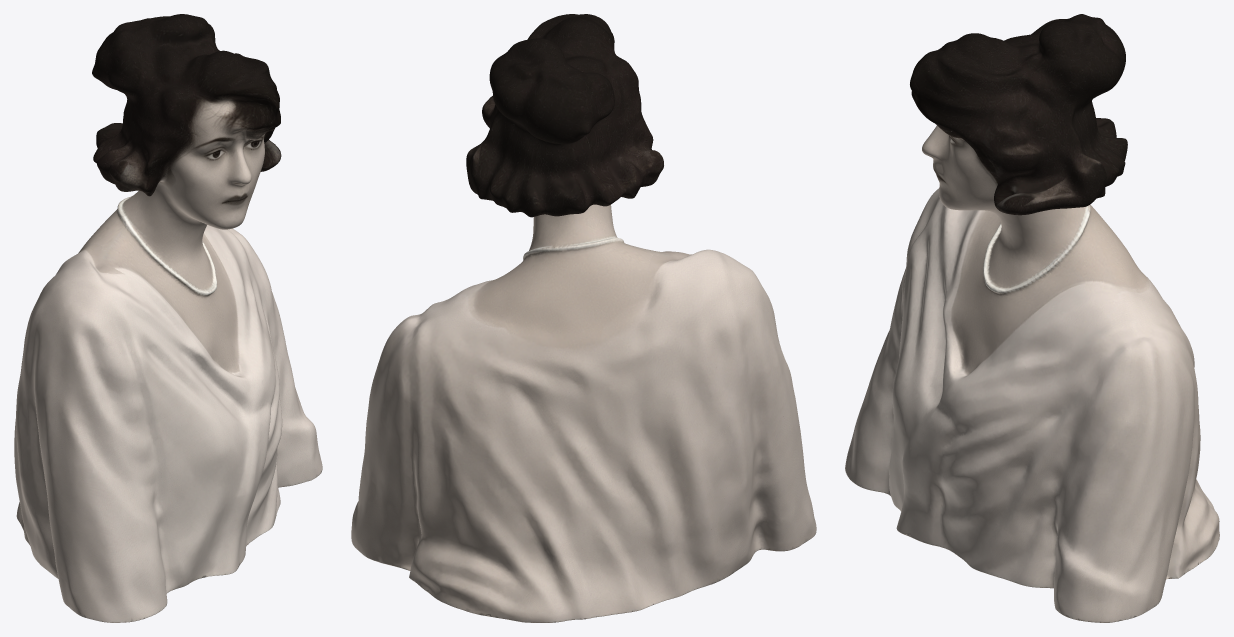
Rendered from Meshy_AI_Pearl_Gaze_1022060900_texture.glb.
The picture shows the model from 3 angles, left to right: view 1: azimuth 30°, elevation 25°; view 2: azimuth 150°, elevation 25°; view 3: azimuth 270°, elevation 25°; orthographic projection. The views are drawn at different scales.
Size of the model in its own units: 1.38 by 1.9 by 1.24.
Materials: 1 (1 with a texture image).
